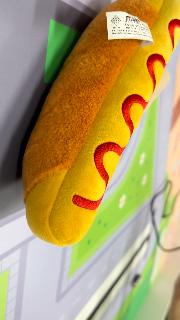hotdog: (21, 1, 179, 248)
